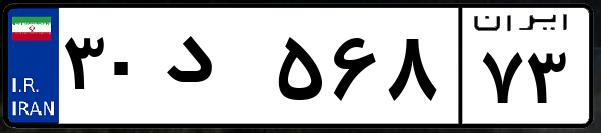0: (110, 28, 158, 98)
3: (57, 26, 110, 100), (525, 38, 570, 115)
5: (270, 28, 330, 110)
6: (330, 28, 385, 110)
7: (475, 38, 525, 113)
8: (385, 28, 445, 110)
د: (158, 20, 270, 120)
